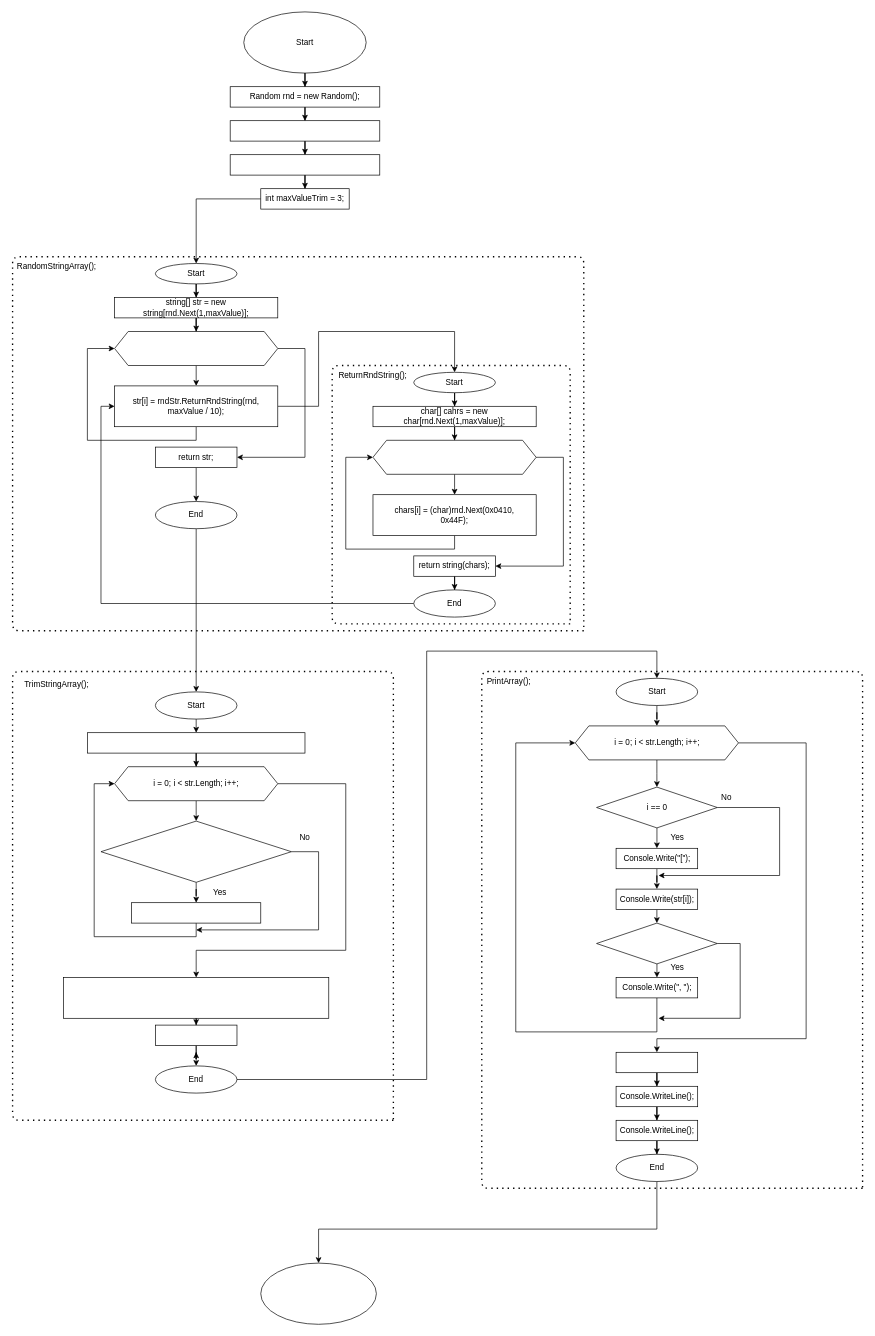
This 875x1336 diagram has some shape labels left out. The shapes that lost their labels are listed below. From the top down, each one's box as (x1, y1, x2, y2) in pixels, then its label:
(230, 120, 380, 141): int maxValue = 100;
(230, 154, 380, 175): RndString rndStr = new RdnString();
(114, 331, 278, 366): i = 0; i < str .Length; i++;
(372, 440, 536, 474): i = 0; i < chars.Length; i++;
(87, 732, 305, 753): string[] resultArr = new string[str.Length];
(100, 820, 291, 882): str[i].Length <= maxValueTrim;
(131, 902, 261, 923): resultArr[i] = str[i];
(596, 922, 717, 964): str.Length > i +1
(63, 977, 329, 1018): resultArr = resultArr.Where(x=>!string.IsNullOrEmpty(x)).ToArray();
(155, 1024, 237, 1046): return resultArrl
(615, 1052, 698, 1073): Console.Write("]");
(260, 1262, 376, 1324): End;
